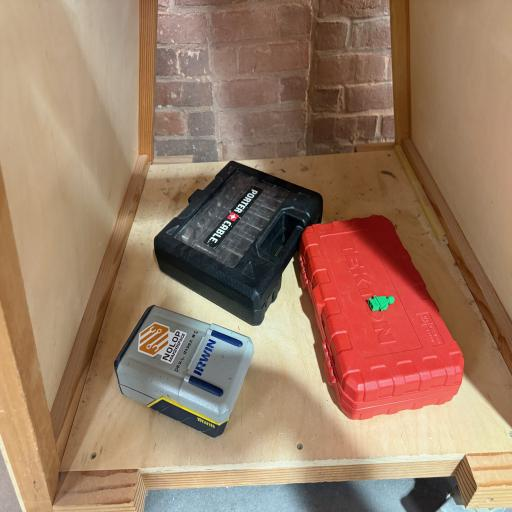Lego-Dude: (364, 290, 397, 316)
